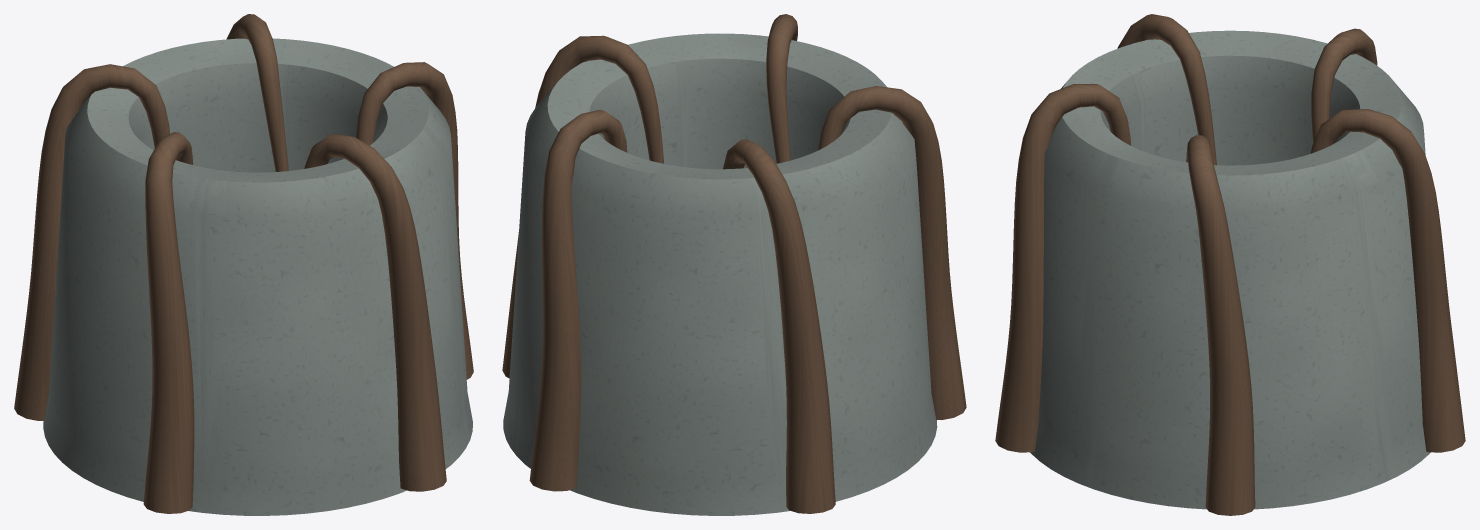
The model's file is bellroot-fen-floodward-marches-root-choked-well-shaft-3d114459__32926.glb.
3 renders of one model, left to right at view 1: azimuth 30°, elevation 25°; view 2: azimuth 150°, elevation 25°; view 3: azimuth 270°, elevation 25°, orthographic.
Visible parts, largest first — view 1: root-choked-well-shaft_0, root-choked-well-shaft_2; view 2: root-choked-well-shaft_0, root-choked-well-shaft_2; view 3: root-choked-well-shaft_0, root-choked-well-shaft_2.
Boxes of the visible parts, box(x1,y1,x2,y2) form: root-choked-well-shaft_0: box(43, 38, 472, 515); root-choked-well-shaft_2: box(14, 14, 473, 513); root-choked-well-shaft_0: box(503, 33, 937, 515); root-choked-well-shaft_2: box(502, 14, 966, 513); root-choked-well-shaft_0: box(1030, 30, 1430, 509); root-choked-well-shaft_2: box(995, 14, 1465, 515).
Size of the model in its own units: 1.67 by 1.36 by 1.7.
Materials: 4 (3 with a texture image).
